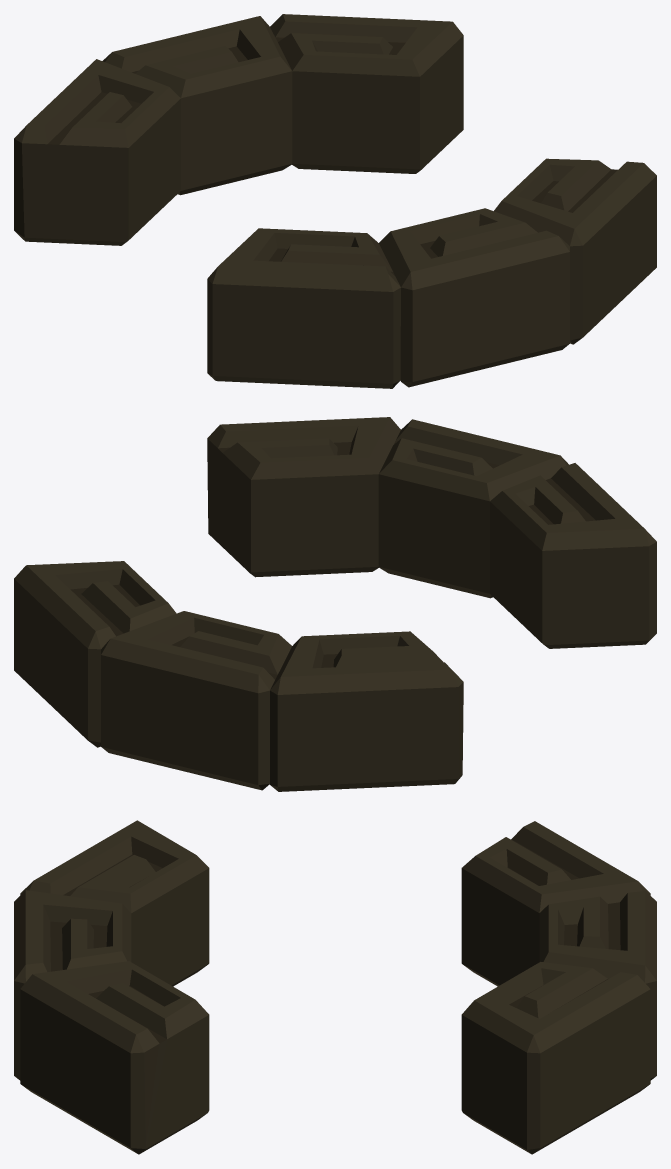
The model's file is ENV_Stone_SkyShip_Obstacle_01.fbx.
The picture shows the model from 3 angles, top to bottom: view 1: azimuth 30°, elevation 25°; view 2: azimuth 150°, elevation 25°; view 3: azimuth 270°, elevation 25°; orthographic projection. The views are drawn at different scales.
Parts seen in each view (by area): view 1: ENV_Stone_SkyShip_Obstacle_01; view 2: ENV_Stone_SkyShip_Obstacle_01; view 3: ENV_Stone_SkyShip_Obstacle_01.
Part boxes in pixels (x1,y1,x2,y2): ENV_Stone_SkyShip_Obstacle_01: [14, 14, 656, 388]; ENV_Stone_SkyShip_Obstacle_01: [14, 417, 656, 791]; ENV_Stone_SkyShip_Obstacle_01: [14, 820, 656, 1154].
Bounding box in the file's own units: 64.46 × 15.94 × 78.25.
